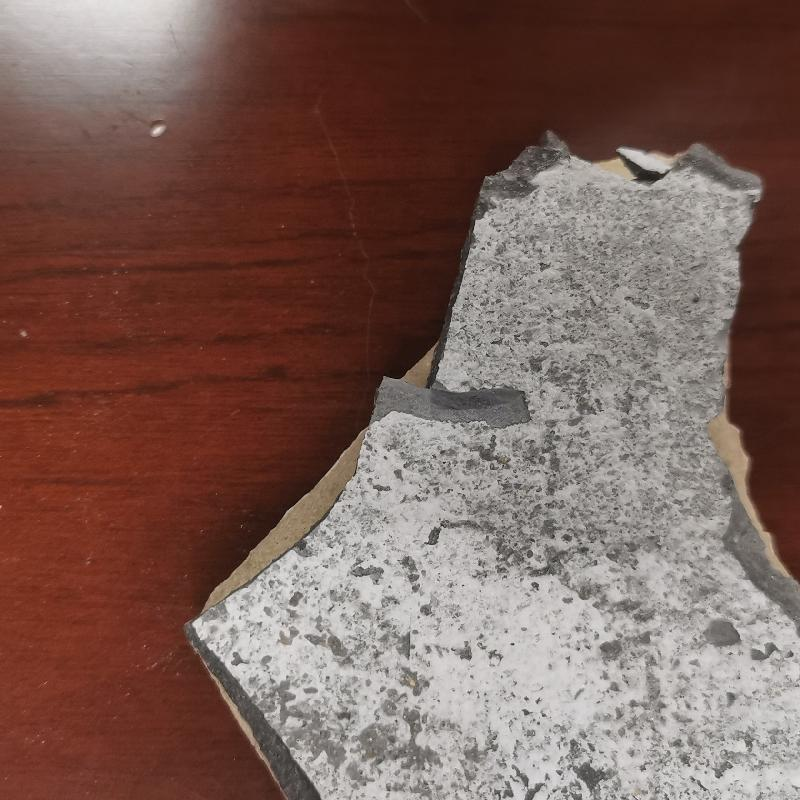tile: (181, 124, 799, 800)
